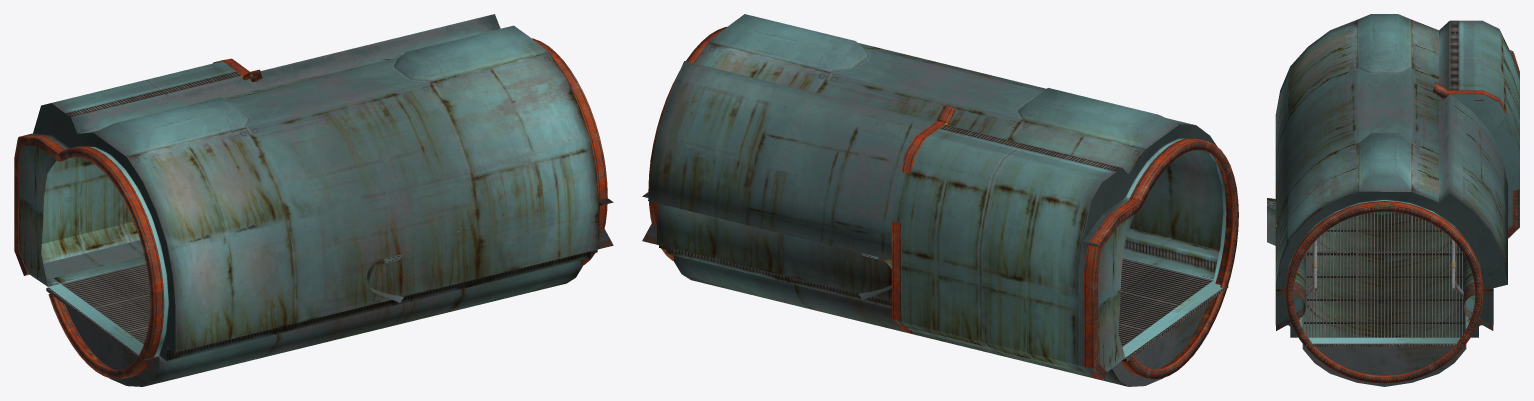
The model's file is tau_tunnel_straight_large_door.dae.
The picture shows the model from 3 angles, left to right: view 1: azimuth 30°, elevation 25°; view 2: azimuth 150°, elevation 25°; view 3: azimuth 270°, elevation 25°; orthographic projection. The views are drawn at different scales.
Visible parts, largest first — view 1: pCylinder92, pPipe67, polySurface237, pPipe66, polySurface236, polySurface388; view 2: pCylinder92, pPipe67, polySurface235, pPipe68, polySurface236, pPipe66, polySurface237, polySurface388; view 3: pCylinder92, pPipe66, polySurface342, polySurface341, polySurface343, polySurface388, polySurface236, pPipe68, polySurface237, polySurface235, railing_pplant_short_chainlink19, railing_pplant_short_chainlink20.
Part boxes in pixels (x1,y1,x2,y2): pCylinder92: [14, 14, 599, 386]; pPipe67: [14, 134, 164, 379]; polySurface237: [46, 263, 149, 314]; pPipe66: [532, 38, 607, 265]; polySurface236: [79, 294, 149, 338]; polySurface388: [367, 198, 613, 302]; pCylinder92: [648, 14, 1226, 386]; pPipe67: [1084, 138, 1238, 380]; polySurface235: [1120, 259, 1228, 312]; pPipe68: [891, 106, 955, 333]; polySurface236: [1119, 291, 1194, 336]; pPipe66: [648, 27, 726, 261]; polySurface237: [1118, 324, 1160, 361]; polySurface388: [642, 192, 891, 299]; pCylinder92: [1275, 14, 1519, 386]; pPipe66: [1286, 201, 1483, 383]; polySurface342: [1357, 252, 1411, 346]; polySurface341: [1411, 252, 1466, 346]; polySurface343: [1302, 252, 1357, 346]; polySurface388: [1267, 198, 1493, 330]; polySurface236: [1357, 211, 1411, 252]; pPipe68: [1432, 82, 1519, 238]; polySurface237: [1411, 216, 1462, 252]; polySurface235: [1307, 216, 1357, 252]; railing_pplant_short_chainlink19: [1450, 242, 1470, 321]; railing_pplant_short_chainlink20: [1298, 242, 1317, 321].
Size of the model in its own units: 8 by 4.17 by 4.64.
